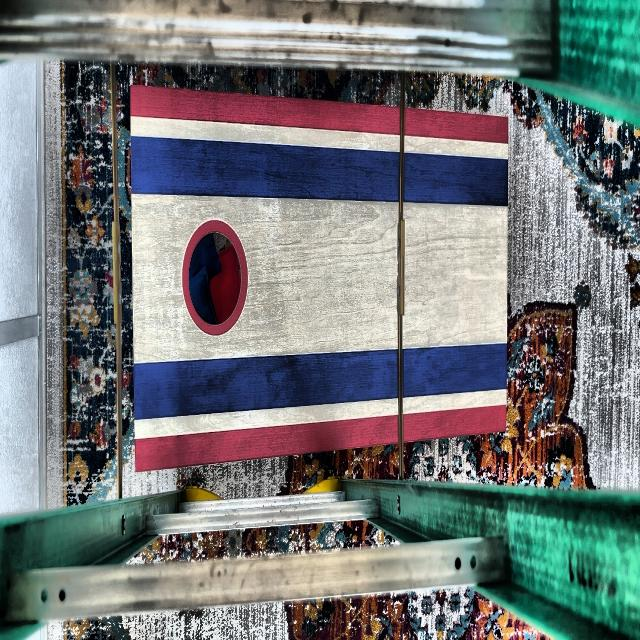blue-bean-bag-in-hole: (188, 268, 218, 326), (188, 234, 221, 281)
board: (134, 118, 506, 428)
hole: (182, 218, 248, 336)
red-bean-bag-in-hole: (208, 246, 241, 324)
